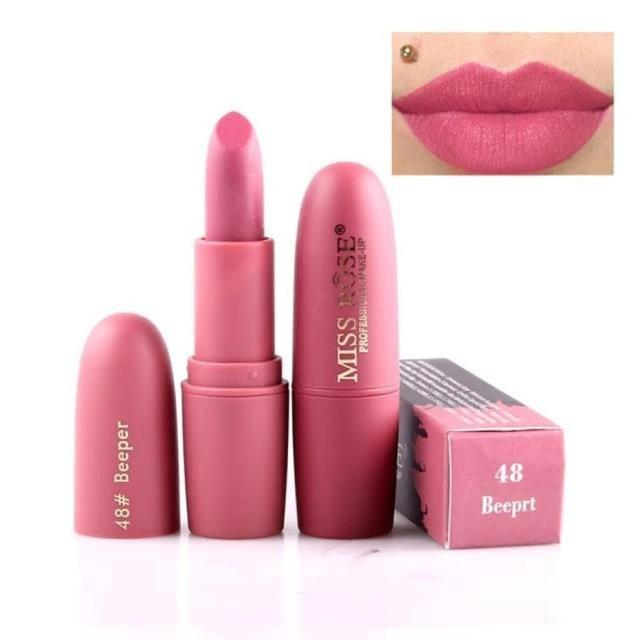lipstick: (176, 90, 300, 559)
